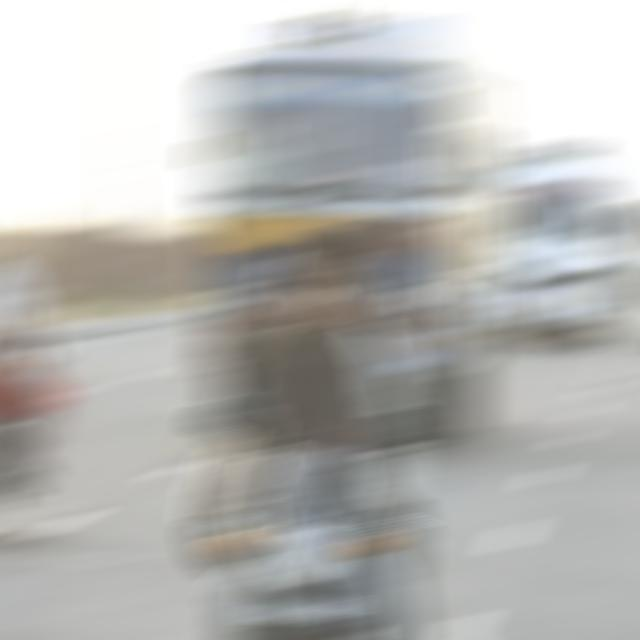Without Helmet: (263, 222, 342, 338)
